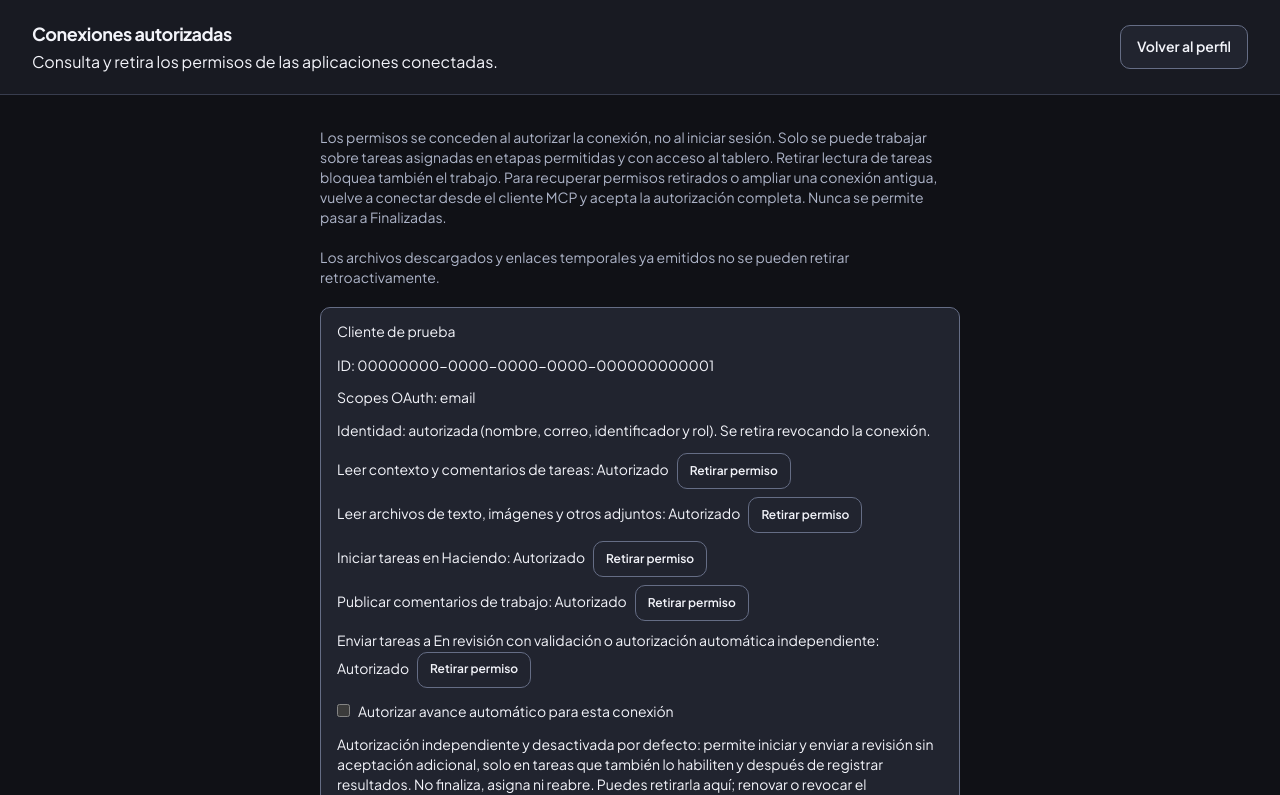
muestra los permisos concedidos al conectar y permite retirarlos sin revocar OAuth
This screenshot has width=1280, height=795.
Expected: the text "Publicar comentarios de trabajo: Autorizado" is shown, left=337, top=592, right=627, bottom=610
Click the button named "Retirar permiso: Publicar comentarios de trabajo de Cliente de prueba" at (692, 603), box left=635, top=585, right=749, bottom=621
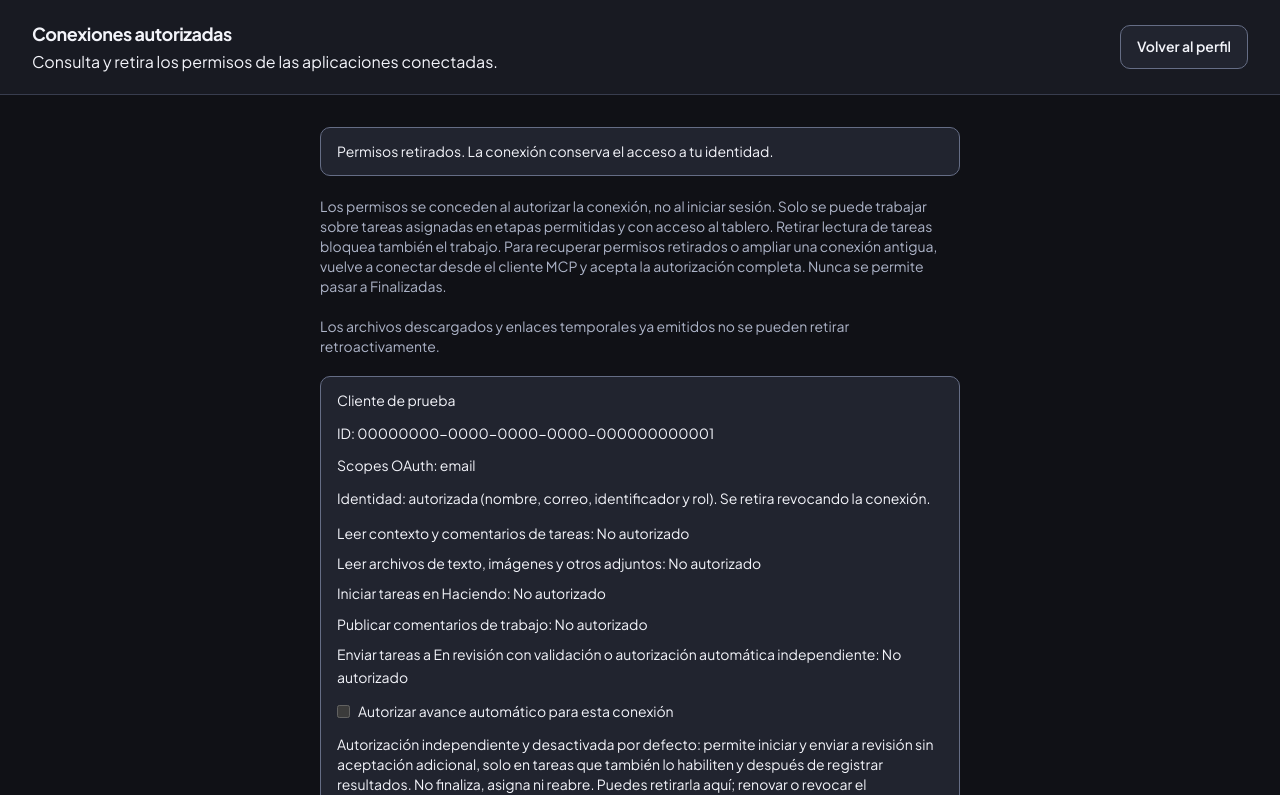
Now the text "Publicar comentarios de trabajo: No autorizado" is shown, box left=337, top=615, right=648, bottom=633
